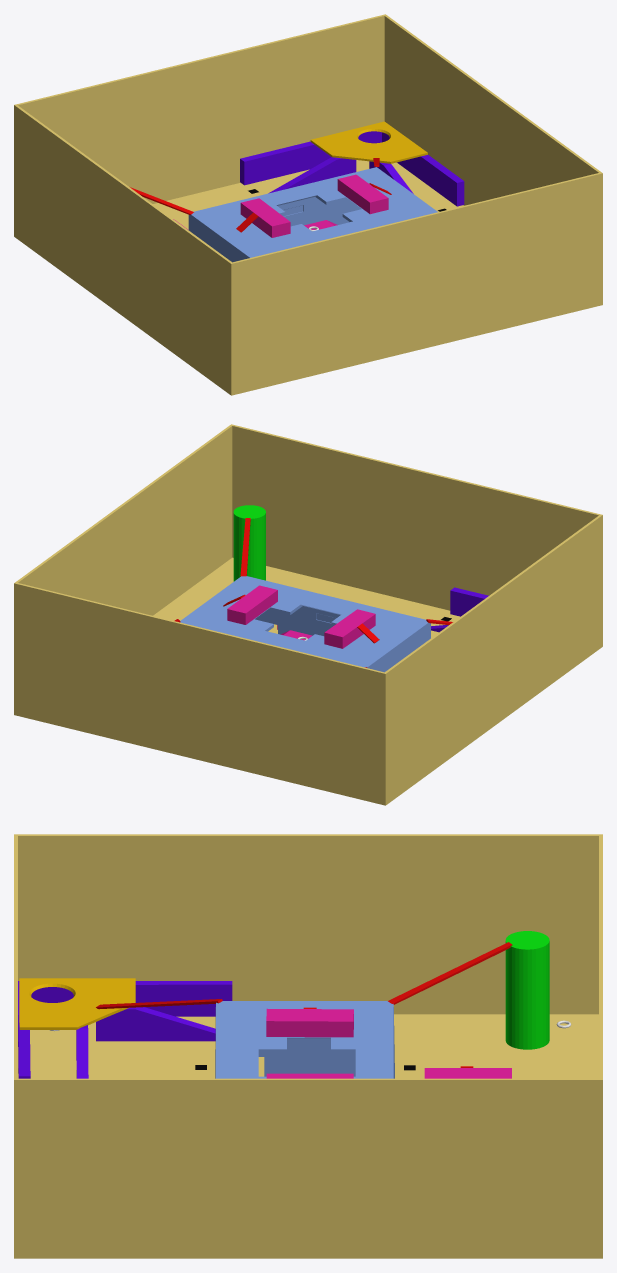
The model's file is level 1 test (2).fbx.
3 views of the same model, one above another, from view 1: azimuth 30°, elevation 25°; view 2: azimuth 150°, elevation 25°; view 3: azimuth 270°, elevation 25° (orthographic). The views are drawn at different scales.
Visible parts, largest first — view 1: Plane, Plane.001, Cube.012, Cube.013, Cube.016, Cube.024, Cube.021, Cube.014; view 2: Plane, Plane.001, Cylinder, Cube.024, Cube.021, Cube.031; view 3: Plane, Plane.001, Cylinder.001, Cube.032, Cube.028, Cube.029, Cube.021, Cube.020, Cube.011, Cube.031, Cube.030, Cube.027.
Part boxes in pixels (box(x1,y1,x2,y2)): Plane: box(14, 14, 602, 395); Plane.001: box(188, 167, 437, 262); Cube.012: box(310, 121, 427, 163); Cube.013: box(240, 131, 381, 185); Cube.016: box(382, 132, 464, 206); Cube.024: box(337, 174, 388, 214); Cube.021: box(240, 198, 290, 237); Cube.014: box(268, 157, 356, 193); Plane: box(14, 424, 602, 805); Plane.001: box(180, 576, 430, 672); Cylinder: box(233, 505, 265, 581); Cube.024: box(227, 585, 277, 624); Cube.021: box(324, 609, 375, 648); Cube.031: box(450, 587, 488, 616); Plane: box(14, 834, 602, 1258); Plane.001: box(215, 1001, 394, 1078); Cylinder.001: box(505, 931, 549, 1049); Cube.032: box(19, 978, 135, 1029); Cube.028: box(31, 981, 232, 1016); Cube.029: box(96, 1007, 215, 1041); Cube.021: box(266, 1008, 353, 1037); Cube.020: box(424, 1068, 511, 1078); Cube.011: box(388, 942, 512, 1004); Cube.031: box(18, 981, 30, 1078); Cube.030: box(76, 1025, 88, 1078); Cube.027: box(96, 999, 222, 1009).
Size of the model in its own units: 20000 by 6838 by 20254.
